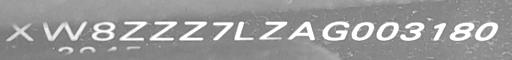letter: (38, 13, 94, 43), (176, 12, 210, 44), (318, 14, 352, 46), (2, 17, 38, 47), (472, 12, 506, 43), (118, 13, 150, 45), (256, 13, 290, 43), (146, 16, 180, 46), (426, 13, 450, 51), (374, 13, 402, 45), (206, 16, 238, 44), (88, 16, 118, 44), (288, 18, 318, 46), (350, 17, 378, 45), (400, 16, 426, 45), (448, 19, 476, 45), (234, 16, 256, 44)
